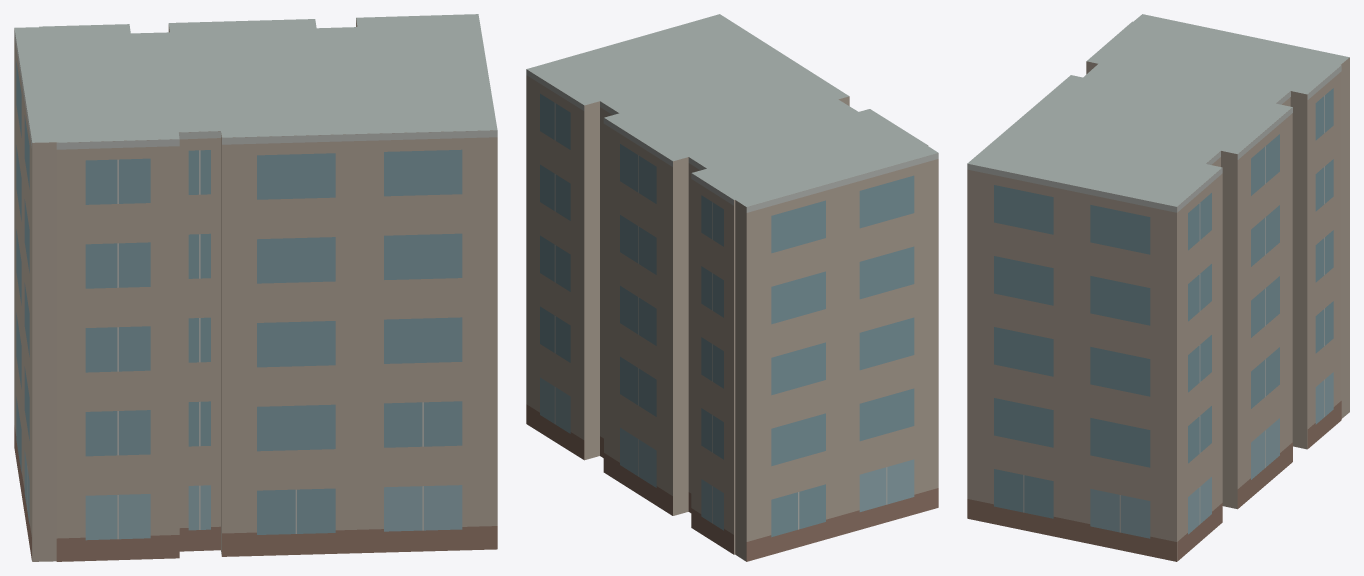
The model's file is survey-upis-32943194.glb.
3 renders of one model, left to right at view 1: azimuth 30°, elevation 25°; view 2: azimuth 150°, elevation 25°; view 3: azimuth 270°, elevation 25°, orthographic. The views are drawn at different scales.
Visible parts, largest first — view 1: survey-upis-32943194.tmp; view 2: survey-upis-32943194.tmp; view 3: survey-upis-32943194.tmp.
Part boxes in pixels (box(x1,y1,x2,y2)): survey-upis-32943194.tmp: box(14, 14, 497, 561); survey-upis-32943194.tmp: box(526, 14, 938, 561); survey-upis-32943194.tmp: box(967, 14, 1349, 561).
Bounding box in the file's own units: 17.02 × 14.6 × 14.27.
